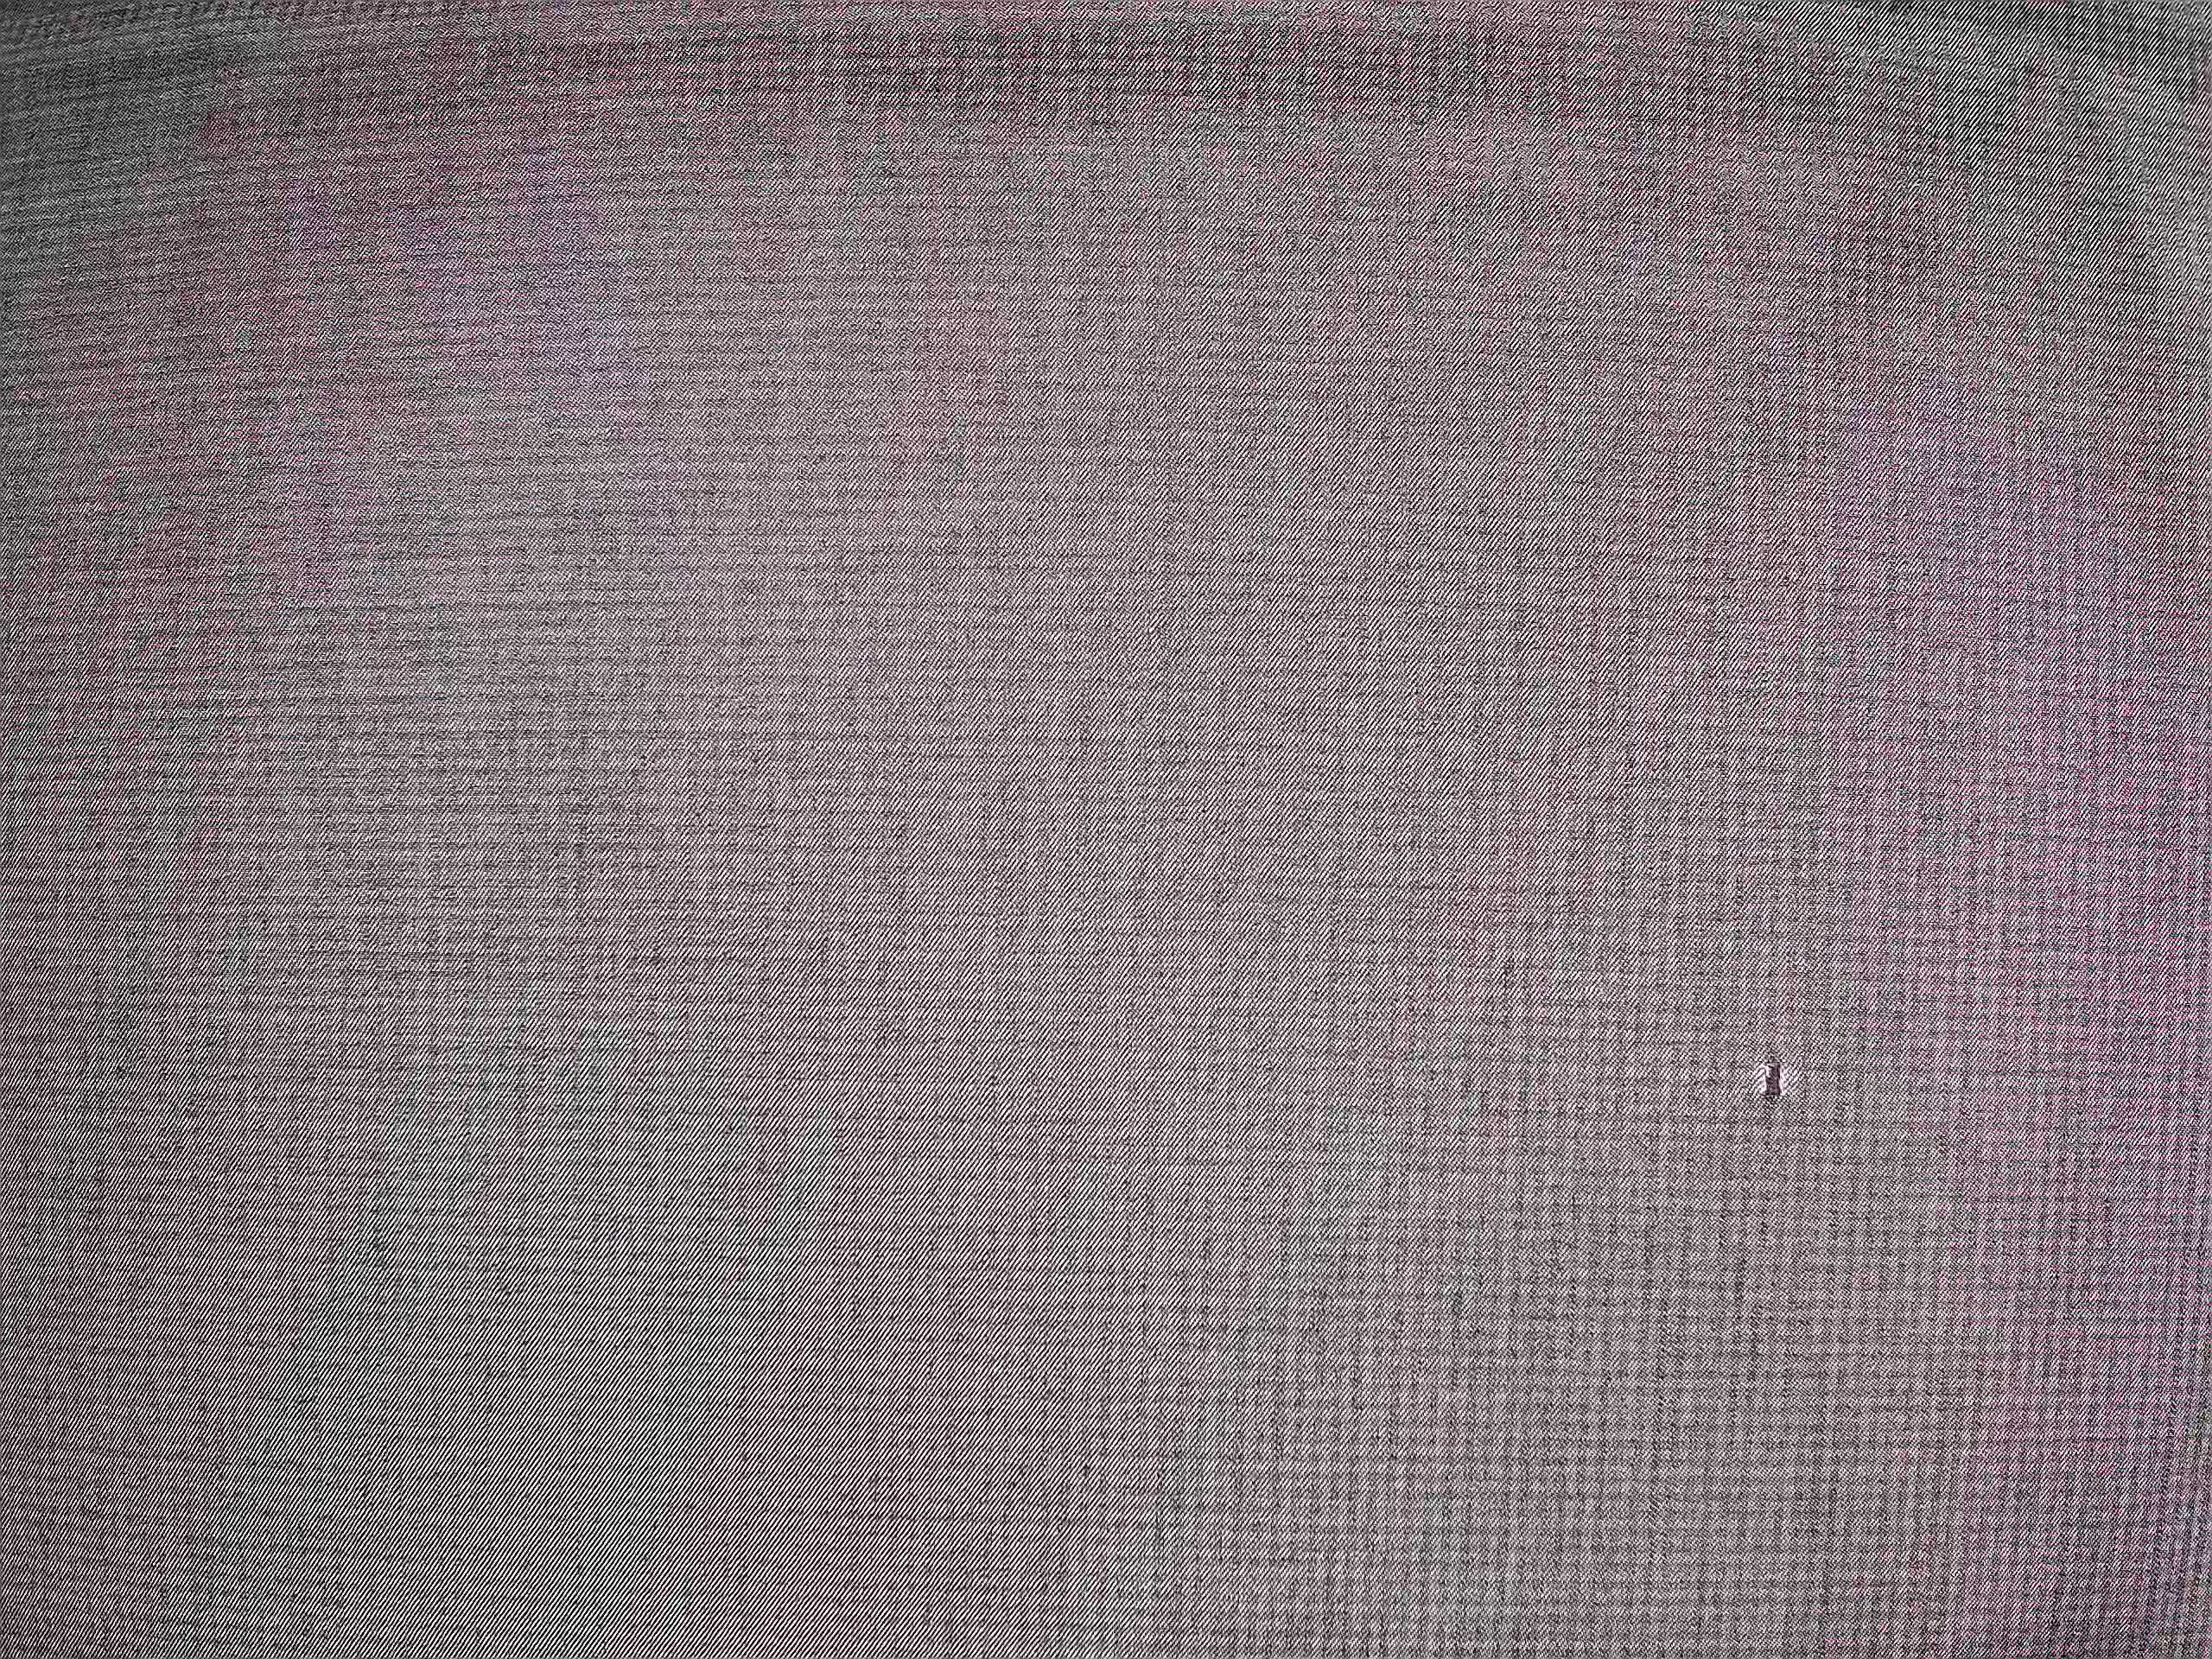rubbing-hole: (1740, 1042, 1804, 1124)
